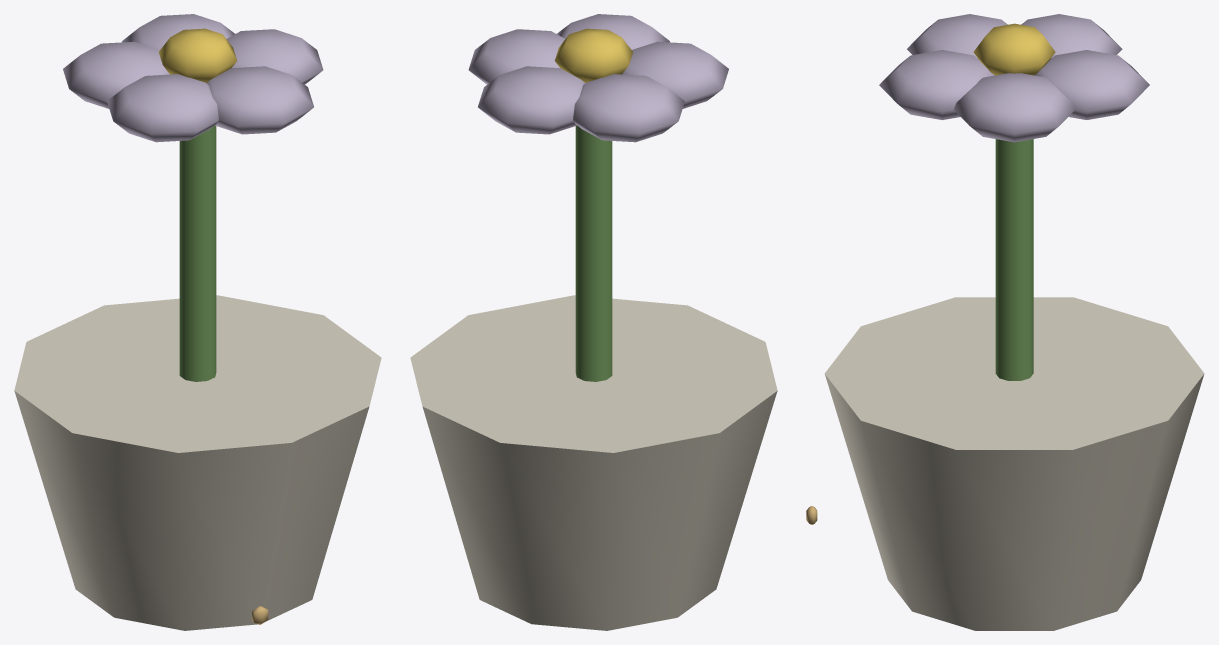
3 renders of one model, left to right at view 1: azimuth 30°, elevation 25°; view 2: azimuth 150°, elevation 25°; view 3: azimuth 270°, elevation 25°, orthographic.
Parts seen in each view (by area): view 1: g_s03; view 2: g_s03; view 3: g_s03.
Boxes of the visible parts, <box> form: g_s03: <box>14,14,381,630</box>; g_s03: <box>410,14,777,630</box>; g_s03: <box>806,14,1204,630</box>.
Bounding box in the file's own units: 0.2853 × 0.48 × 0.3143.
